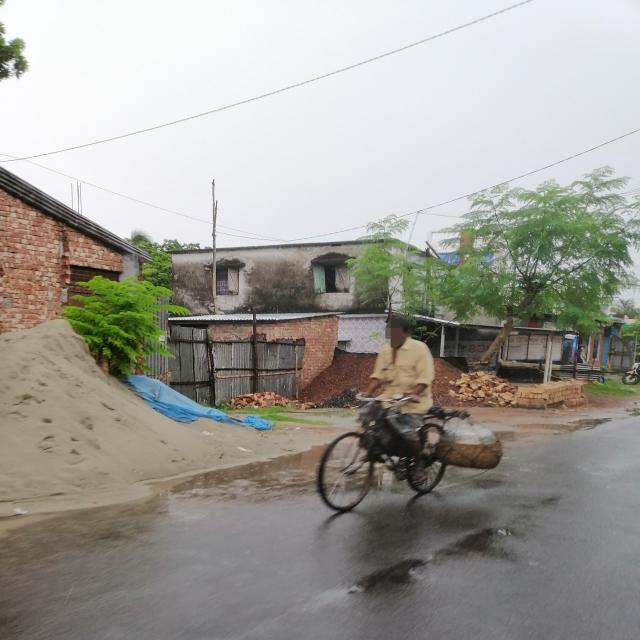Bicycle: (313, 376, 485, 514)
